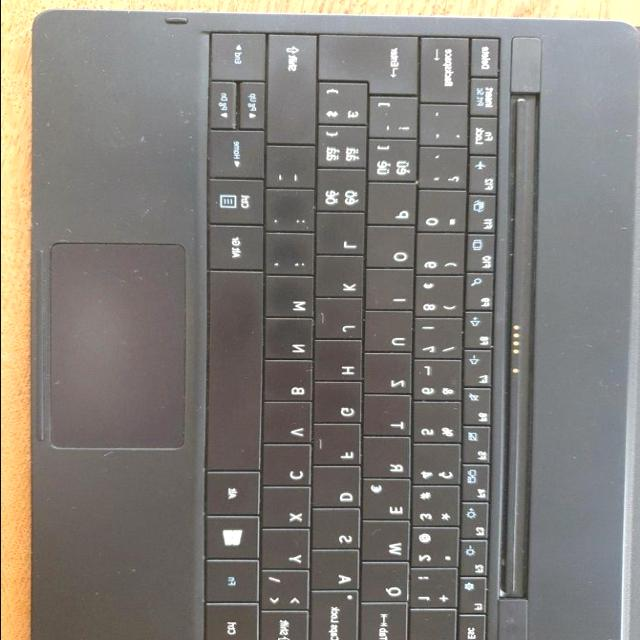0: (419, 194, 471, 236)
1: (412, 572, 462, 612)
2: (413, 530, 463, 571)
3: (414, 489, 464, 529)
4: (415, 447, 465, 488)
5: (415, 405, 465, 447)
6: (415, 363, 467, 405)
7: (416, 322, 466, 363)
8: (417, 280, 469, 321)
9: (417, 237, 469, 279)
a: (313, 553, 363, 593)
accent: (423, 108, 473, 150)
ae: (319, 129, 371, 173)
alt-left: (208, 473, 264, 518)
altgr-right: (211, 228, 269, 273)
b: (266, 363, 316, 405)
c: (264, 447, 316, 490)
comma: (269, 236, 319, 279)
d: (314, 469, 364, 511)
del: (422, 39, 474, 107)
e: (364, 480, 414, 524)
enter: (319, 39, 422, 97)
f: (314, 427, 364, 468)
g: (316, 385, 366, 426)
h: (316, 343, 366, 385)
i: (368, 272, 418, 313)
j: (317, 302, 367, 343)
k: (318, 259, 368, 301)
keyboard: (195, 30, 515, 640)
l: (317, 216, 369, 259)
less: (262, 574, 314, 614)
m: (268, 279, 318, 321)
minus: (268, 148, 320, 192)
n: (267, 322, 317, 363)
o: (368, 229, 420, 272)
oe: (319, 173, 371, 216)
p: (369, 186, 421, 228)
point: (269, 193, 319, 237)
q: (363, 564, 413, 606)
r: (364, 439, 414, 481)
s: (313, 512, 363, 553)
shift-left: (262, 613, 312, 640)
shift-lock: (313, 594, 363, 640)
shift-right: (269, 35, 321, 147)
space: (209, 273, 267, 473)
strg-left: (207, 606, 263, 640)
strg-right: (210, 177, 268, 227)
t: (365, 398, 415, 439)
tab: (362, 605, 412, 640)
u: (366, 315, 418, 356)
ue: (368, 142, 420, 184)
v: (265, 404, 315, 447)
w: (364, 524, 414, 565)
x: (263, 491, 313, 532)
y: (263, 532, 313, 573)
z: (365, 356, 415, 398)
